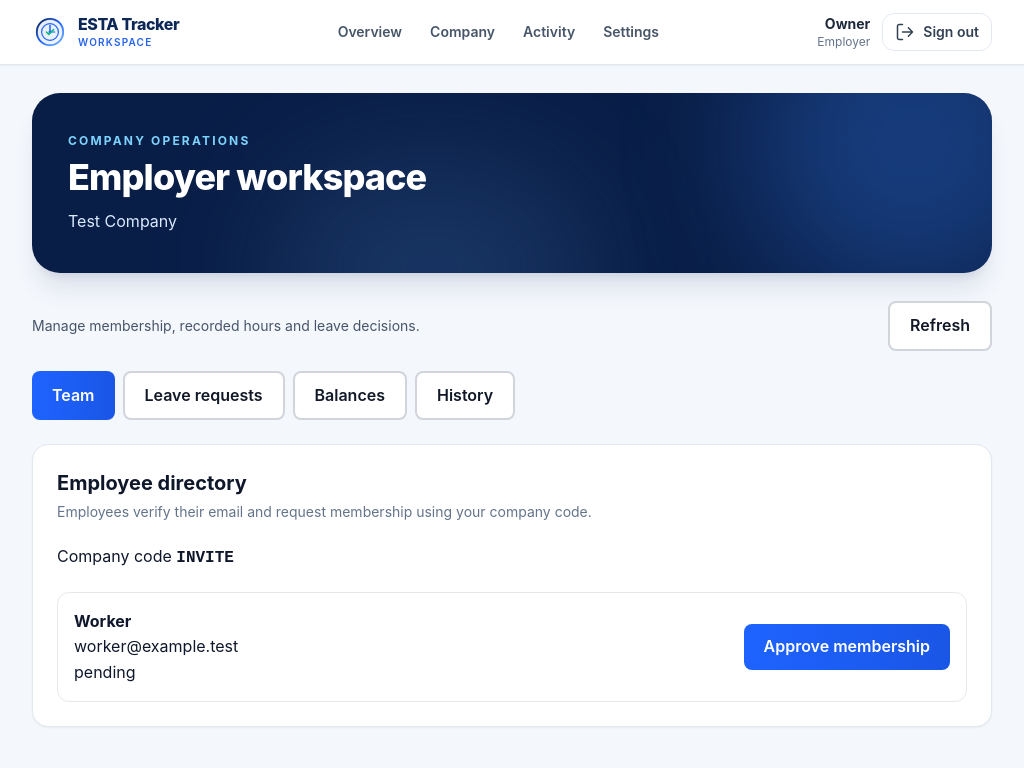
Test case: connected employer workspace › loads real members and submits membership approval
The image size is (1024, 768).
Click the button "Approve membership": click(847, 647) [744, 624, 950, 670]
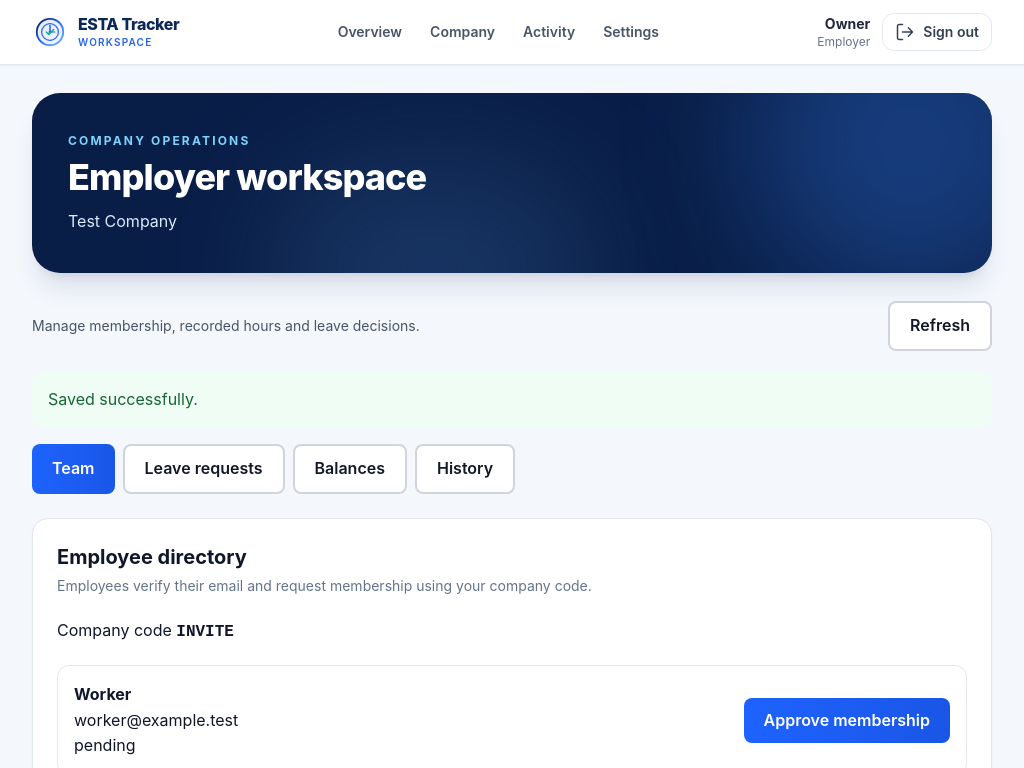
Now the text "Saved successfully." is shown, box [32, 371, 992, 428]
